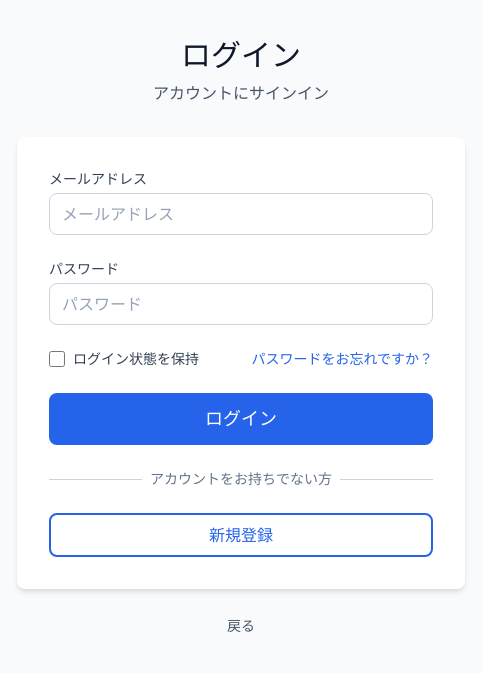
Test: LoginPage › メールアドレスが空の場合エラーが表示される
Click the button "ログイン" at (241, 419), box left=49, top=393, right=433, bottom=445
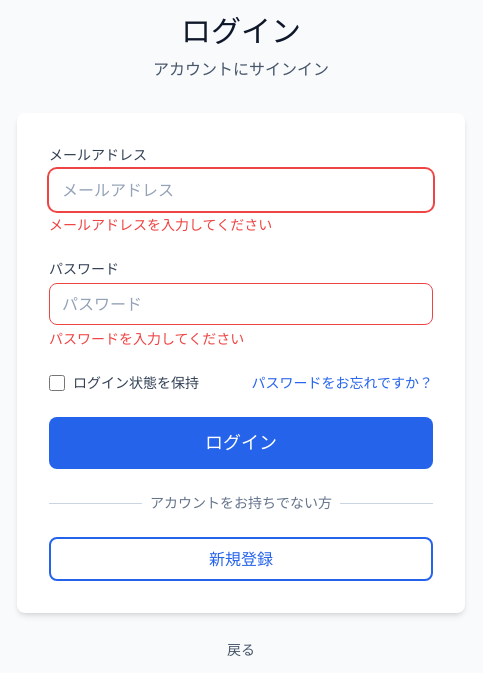
Expected: the text "メールアドレスを入力してください" is shown, left=49, top=216, right=272, bottom=233
